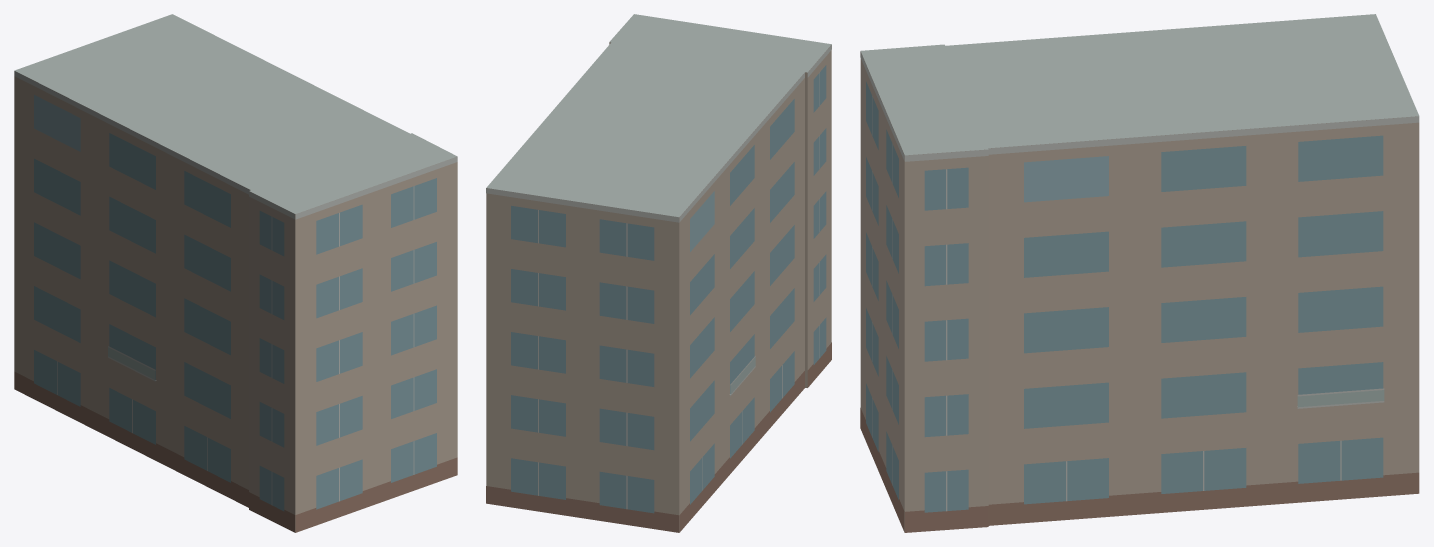
The model's file is survey-upis-32838973.glb.
3 renders of one model, left to right at view 1: azimuth 30°, elevation 25°; view 2: azimuth 150°, elevation 25°; view 3: azimuth 270°, elevation 25°, orthographic. The views are drawn at different scales.
Parts seen in each view (by area): view 1: survey-upis-32838973.tmp; view 2: survey-upis-32838973.tmp; view 3: survey-upis-32838973.tmp.
Boxes of the visible parts, bbox=[...] form: survey-upis-32838973.tmp: bbox=[14, 14, 457, 532]; survey-upis-32838973.tmp: bbox=[486, 14, 831, 532]; survey-upis-32838973.tmp: bbox=[860, 14, 1419, 532].
Size of the model in its own units: 11.46 by 14.25 by 19.13.
